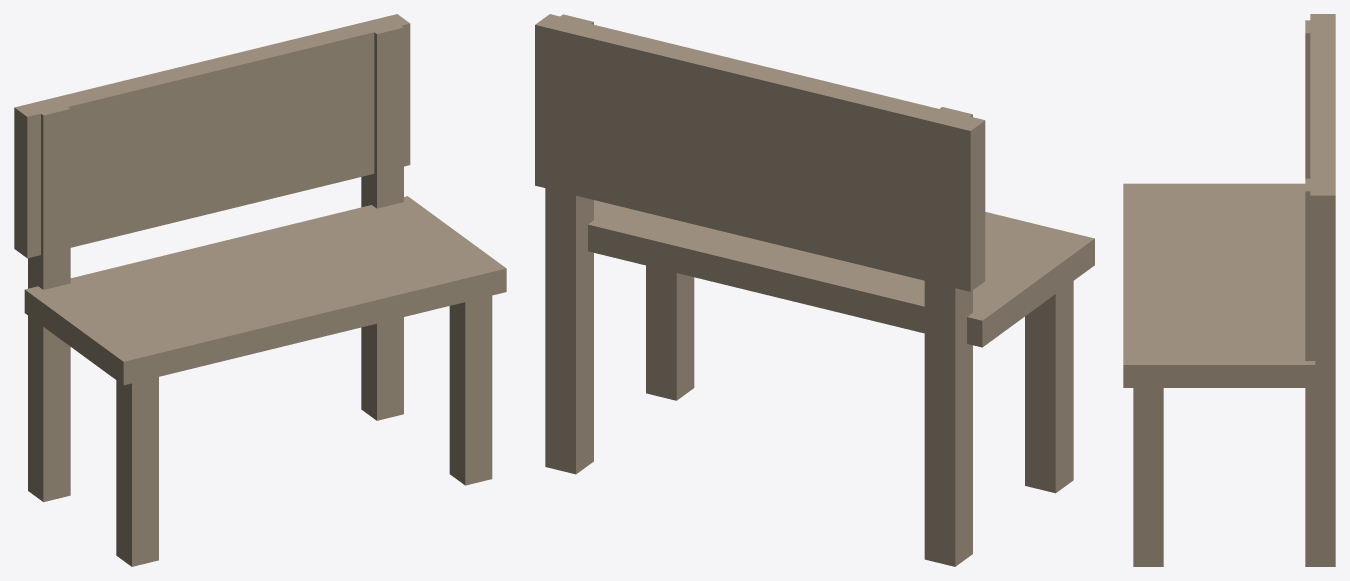
The model's file is NPR_25_0001__MOD__GardenFurniture__Seating__GardenBench__Var-01__.glb.
3 views of the same model, side by side, from view 1: azimuth 30°, elevation 25°; view 2: azimuth 150°, elevation 25°; view 3: azimuth 270°, elevation 25° (orthographic). The views are drawn at different scales.
Parts seen in each view (by area): view 1: NPR_25_0001__MOD__GardenFurniture__Seating__GardenBench__Var; view 2: NPR_25_0001__MOD__GardenFurniture__Seating__GardenBench__Var; view 3: NPR_25_0001__MOD__GardenFurniture__Seating__GardenBench__Var.
Part boxes in pixels (left/top/right/bottom): NPR_25_0001__MOD__GardenFurniture__Seating__GardenBench__Var: left=14, top=14, right=506, bottom=566; NPR_25_0001__MOD__GardenFurniture__Seating__GardenBench__Var: left=535, top=14, right=1094, bottom=566; NPR_25_0001__MOD__GardenFurniture__Seating__GardenBench__Var: left=1123, top=14, right=1335, bottom=566.
Size of the model in its own units: 0.85 by 0.82 by 0.42.
